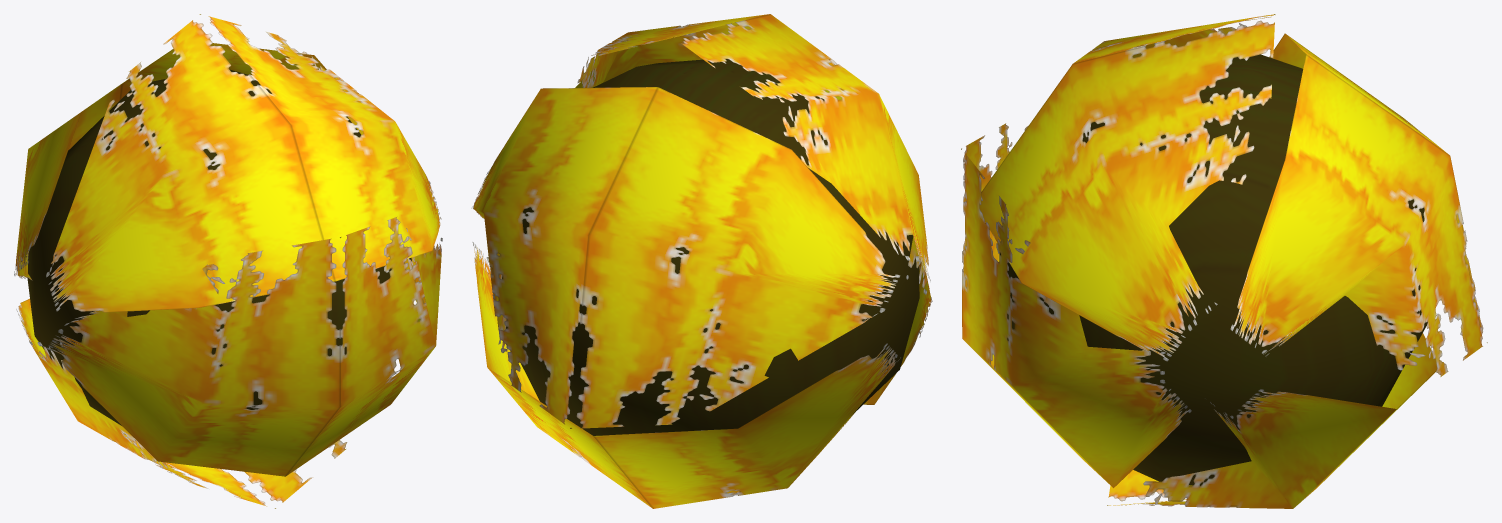
Rendered from ShadowBall.fbx.
3 views of the same model, side by side, from view 1: azimuth 30°, elevation 25°; view 2: azimuth 150°, elevation 25°; view 3: azimuth 270°, elevation 25° (orthographic). The views are drawn at different scales.
Visible parts, largest first — view 1: chr_shadowspin.001; view 2: chr_shadowspin.001; view 3: chr_shadowspin.001.
Part boxes in pixels (x1=…): chr_shadowspin.001: x1=14, y1=14, x2=442, y2=508; chr_shadowspin.001: x1=471, y1=14, x2=932, y2=508; chr_shadowspin.001: x1=961, y1=14, x2=1487, y2=508.
Bounding box in the file's own units: 63.81 × 69.46 × 67.32.
